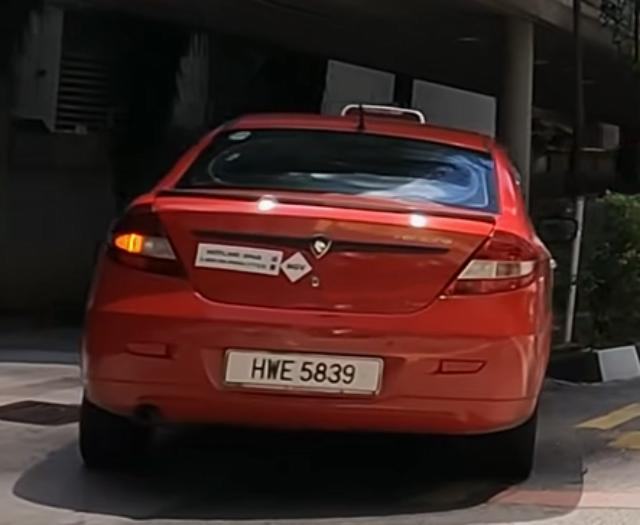License_Plate: (221, 348, 384, 397)
car: (78, 103, 559, 485)
